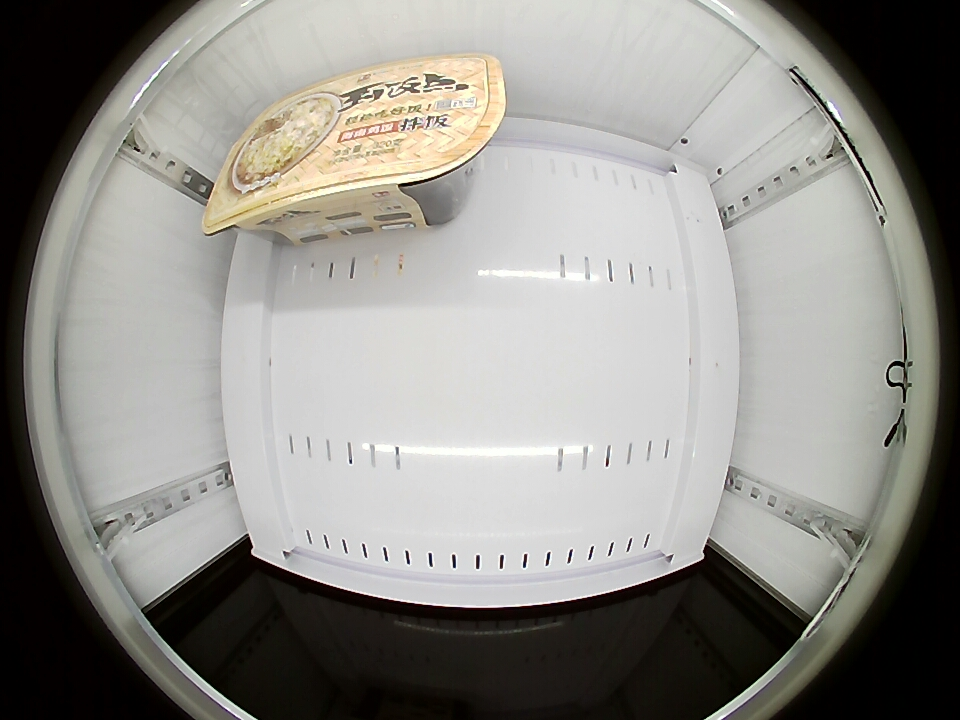daofandian1: (204, 54, 506, 236)
